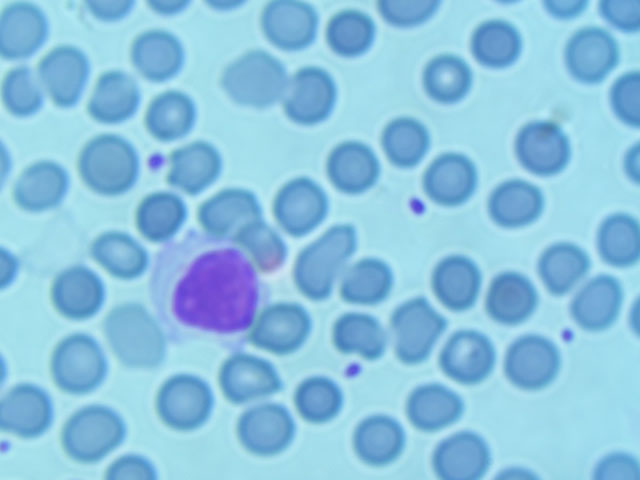Platelets: (401, 192, 432, 229), (139, 146, 174, 177), (338, 353, 372, 383), (550, 317, 585, 346)
RBC: (80, 134, 137, 192), (85, 72, 142, 130), (140, 27, 204, 77), (14, 157, 78, 207), (260, 1, 324, 50), (146, 85, 202, 140), (177, 140, 233, 195), (136, 187, 192, 242), (99, 221, 155, 276), (54, 262, 110, 317), (52, 334, 108, 389), (63, 404, 119, 459), (157, 376, 213, 431), (220, 351, 276, 406), (236, 404, 292, 459), (258, 303, 314, 358), (330, 305, 386, 360), (276, 173, 327, 233), (327, 138, 378, 198), (296, 228, 346, 289), (565, 28, 618, 85), (225, 50, 278, 107), (428, 254, 486, 306), (392, 299, 450, 351), (440, 330, 498, 382), (503, 337, 561, 389), (484, 273, 542, 325), (532, 238, 590, 290), (567, 276, 625, 328), (516, 119, 574, 171), (420, 59, 478, 111), (472, 18, 530, 70), (324, 11, 382, 63), (285, 71, 343, 123), (1, 386, 52, 443), (380, 113, 434, 166), (427, 151, 481, 204), (492, 180, 546, 233), (352, 413, 404, 468), (410, 379, 462, 434), (433, 425, 485, 480), (1, 1, 53, 56), (42, 46, 91, 98), (596, 208, 640, 265), (105, 305, 154, 356), (345, 254, 391, 308), (294, 377, 340, 424)
WBC: (158, 243, 267, 352)
